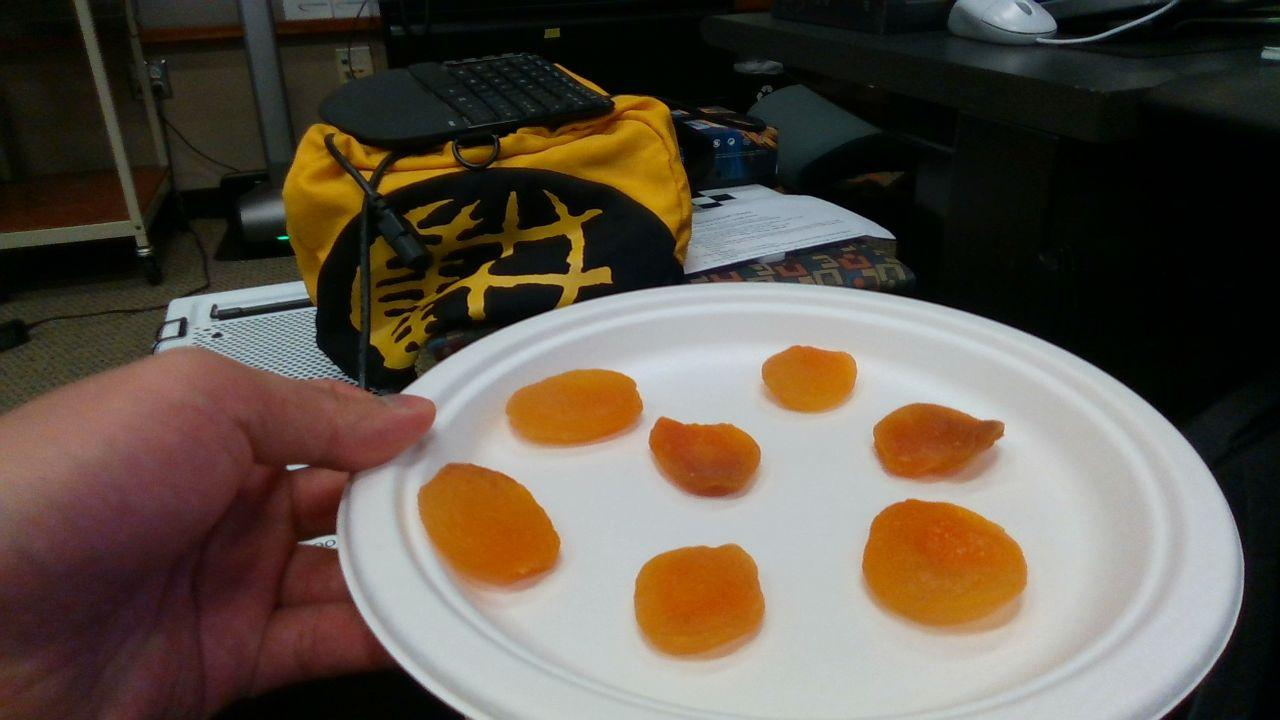apricot: (864, 499, 1028, 624), (419, 464, 561, 584), (636, 543, 765, 655), (508, 368, 643, 444), (874, 404, 1003, 477), (650, 416, 761, 496), (761, 346, 857, 410)
plate: (341, 284, 1243, 720)
